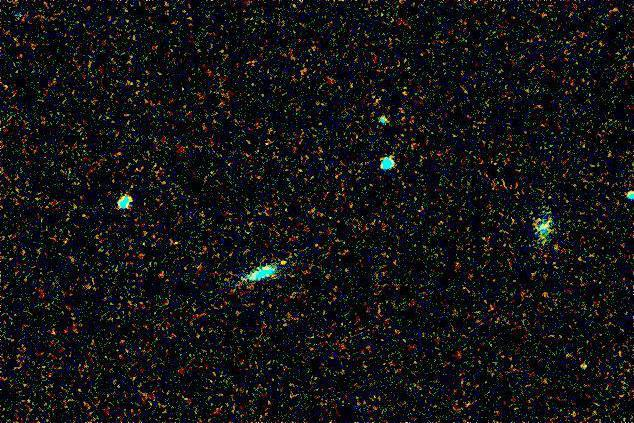star: (269, 249, 299, 279)
